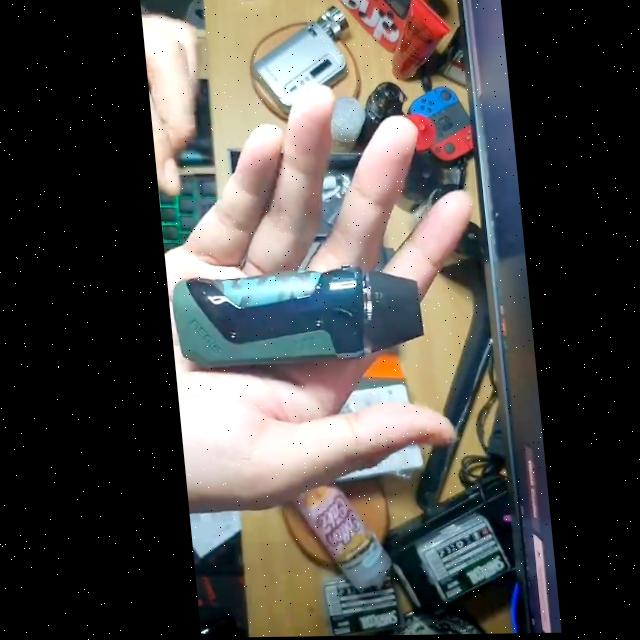vape: (165, 271, 420, 364), (247, 6, 355, 117)
